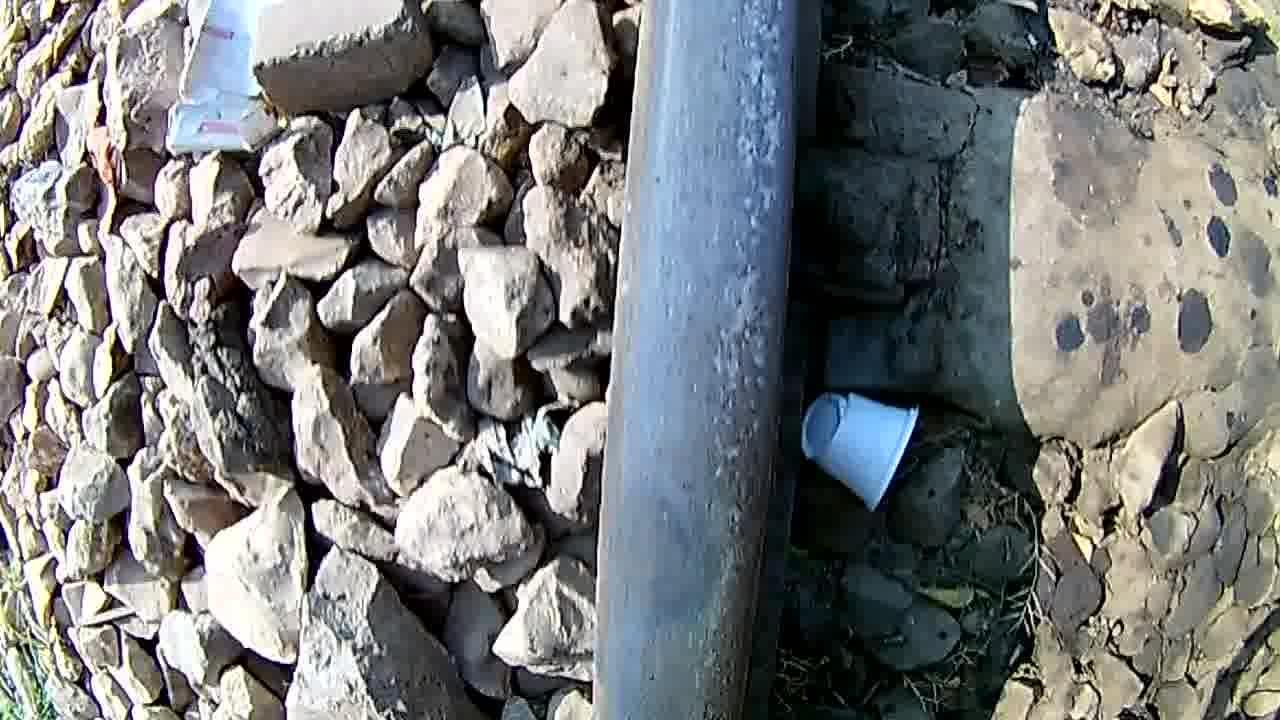crack: (586, 277, 770, 720)
